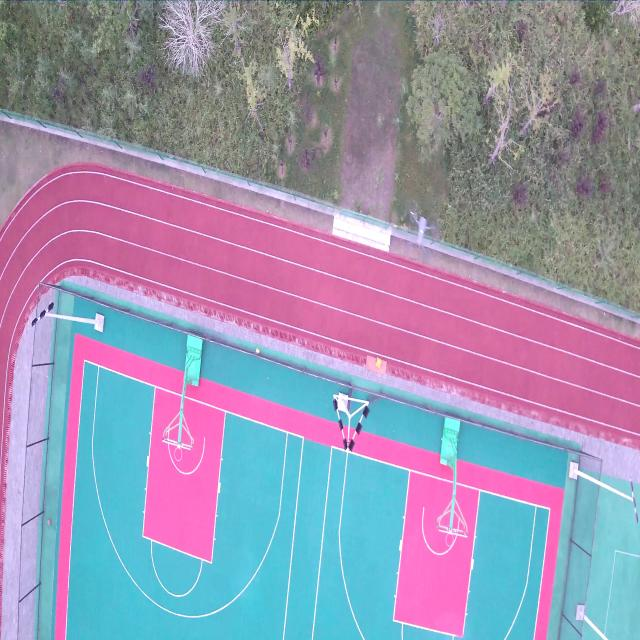UAV: (404, 210, 436, 258)
